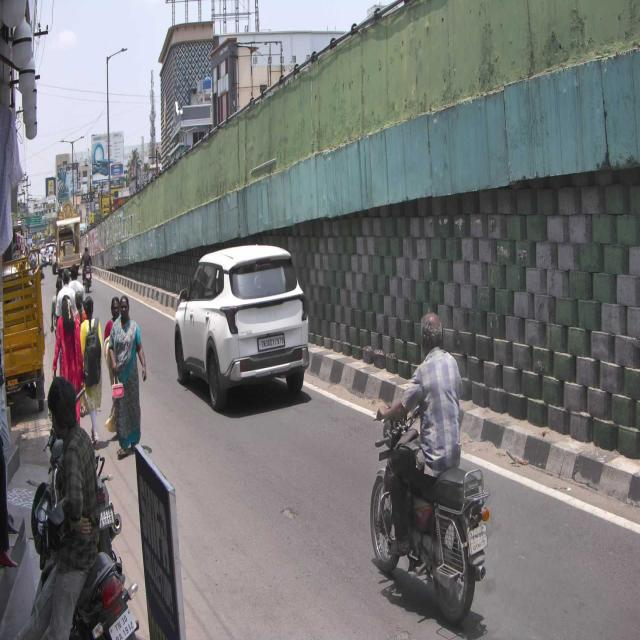single_rider: (369, 308, 492, 626)
